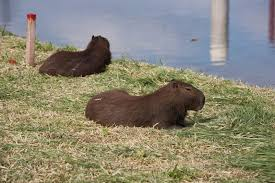capivara: (85, 79, 206, 131), (39, 35, 111, 82)
